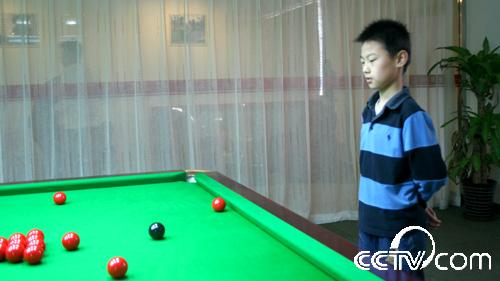other: (345, 16, 445, 273)
